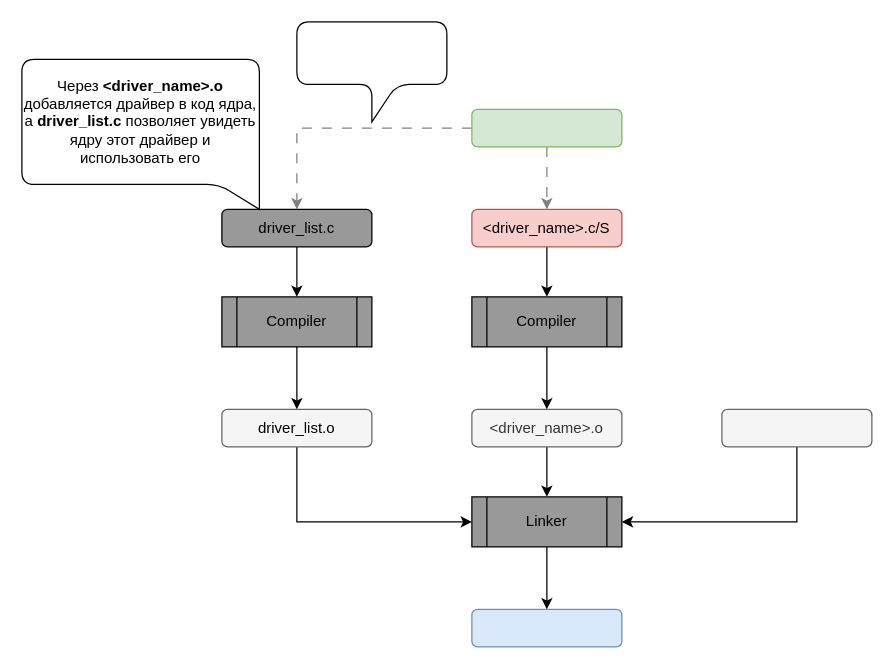
The diagram is 894 pixels wide and 669 high, and some of its shapes have lost their labels. The shapes that lost their labels are listed below. From the top down, each one's centre as x and y in pixels, then its label:
the point at 371,71: init function funcs address array
the point at 546,127: <driver_name>.h
the point at 796,427: <other>.o
the point at 546,627: kernel.elf
